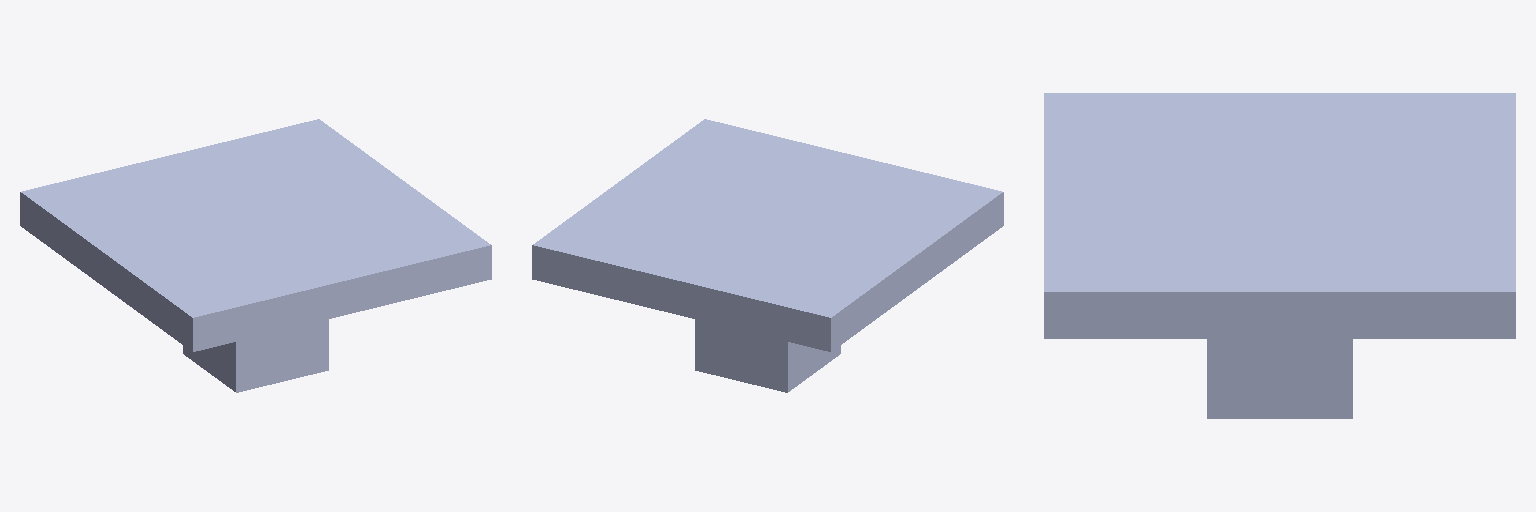
The robot description file, URDF, robot "pedestal":
<robot
  name="pedestal">
  <link
    name="pedestal_description">
    <inertial>
      <origin
        xyz="-4.7138E-17 -9.95858624594052E-18 0.35114"
        rpy="0 0 0" />
      <mass
        value="143.64" />
      <inertia
        ixx="11.252935824593"
        ixy="1.36738999752713E-16"
        ixz="-3.52006097001589E-16"
        iyy="11.252935824593"
        iyz="4.99960915842552E-16"
        izz="18.8720539166667" />
    </inertial>
    <visual>
      <origin
        xyz="0 0 0"
        rpy="1.5707963267949 0 0" />
      <geometry>
        <mesh
          filename="package://pedestal_description/meshes/pedestal_description.STL" />
      </geometry>
      <material
        name="">
        <color
          rgba="0.79216 0.81961 0.93333 1" />
      </material>
    </visual>
    <collision>
      <origin
        xyz="0 0 0"
        rpy="1.5707963267949 0 0" />
      <geometry>
        <mesh
          filename="package://pedestal_description/meshes/pedestal_description.STL" />
      </geometry>
    </collision>
  </link>
</robot>

--- What the picture shows (computed from the rendered views, not written in the file) ---
3 views of the same robot in one strip: view 1: azimuth 30°, elevation 25°; view 2: azimuth 150°, elevation 25°; view 3: azimuth 270°, elevation 25° (orthographic).
Robot: pedestal — 1 links, 0 joints (none); root link pedestal_description; default pose: every joint at zero.
Links seen in each view (by area): view 1: pedestal_description; view 2: pedestal_description; view 3: pedestal_description.
Link boxes in pixels (x1,y1,x2,y2): pedestal_description: (20,119,491,392); pedestal_description: (532,119,1003,392); pedestal_description: (1044,93,1515,418).
Size in the robot's own frame: 1 by 1 by 0.46 metres.
Meshes: 1 distinct files referenced, 1 mesh visuals loaded (1 binary STL).